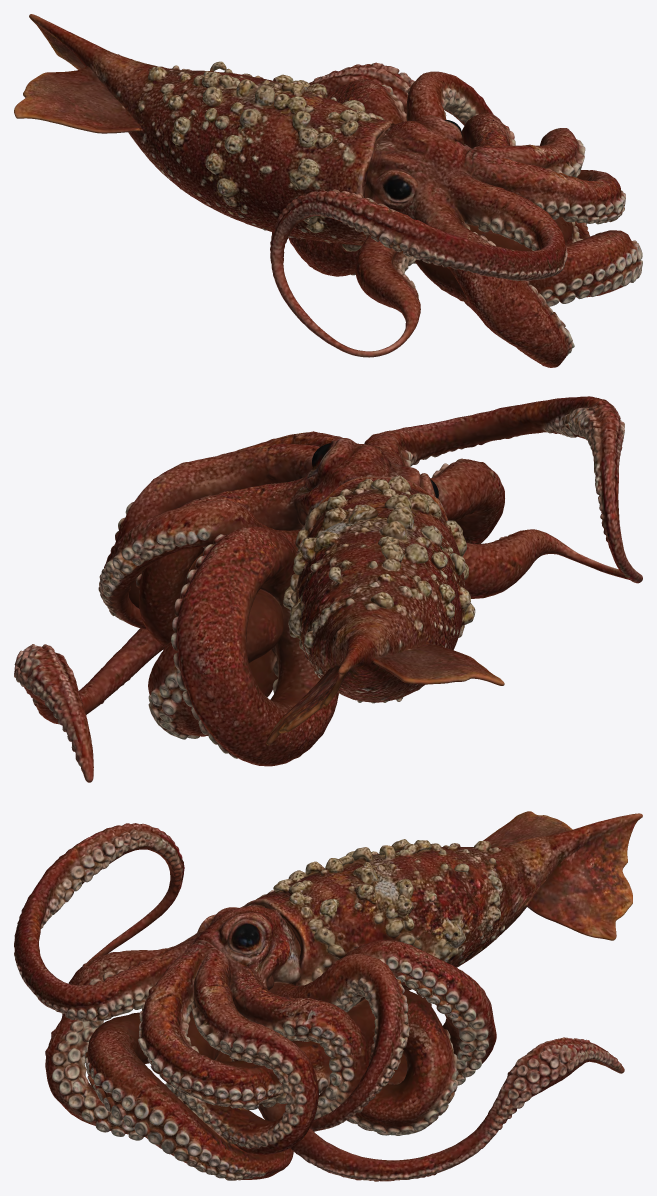
The model's file is kraken.glb.
3 renders of one model, top to bottom at view 1: azimuth 30°, elevation 25°; view 2: azimuth 150°, elevation 25°; view 3: azimuth 270°, elevation 25°, orthographic. The views are drawn at different scales.
Visible parts, largest first — view 1: tripo_node_b8cf9127-bb27-4947-b2d9-8c362386f61a; view 2: tripo_node_b8cf9127-bb27-4947-b2d9-8c362386f61a; view 3: tripo_node_b8cf9127-bb27-4947-b2d9-8c362386f61a.
Part boxes in pixels (x1,y1,x2,y2): tripo_node_b8cf9127-bb27-4947-b2d9-8c362386f61a: (14, 14, 642, 367); tripo_node_b8cf9127-bb27-4947-b2d9-8c362386f61a: (14, 396, 642, 782); tripo_node_b8cf9127-bb27-4947-b2d9-8c362386f61a: (14, 811, 642, 1181).
Bounding box in the file's own units: 0.7643 × 0.3661 × 0.9553.
1 material, 1 textured.
